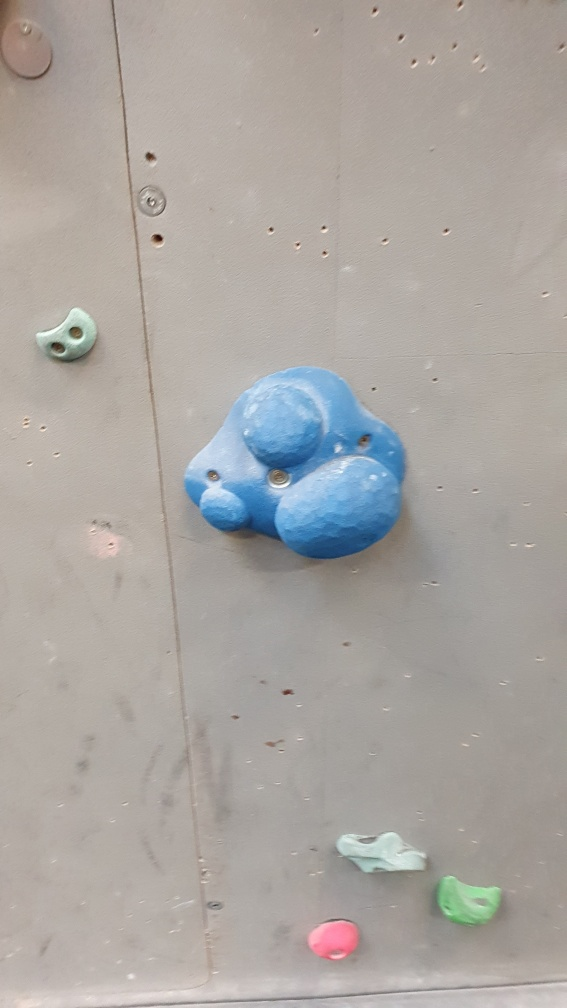Sloper: (181, 364, 411, 564)
